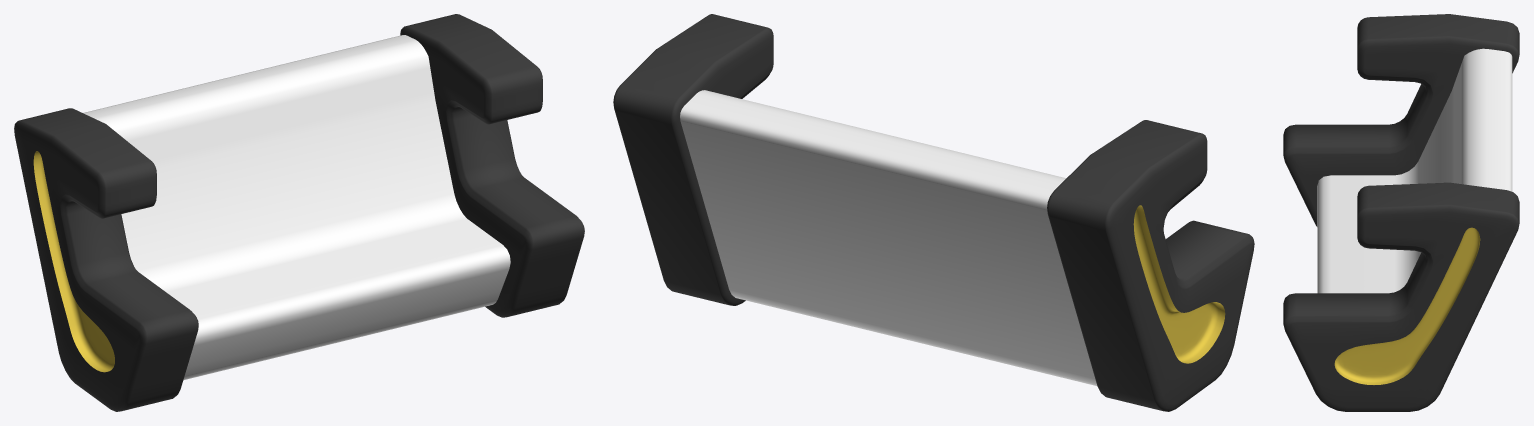
File: sofa.glb
The picture shows the model from 3 angles, left to right: view 1: azimuth 30°, elevation 25°; view 2: azimuth 150°, elevation 25°; view 3: azimuth 270°, elevation 25°; orthographic projection. The views are drawn at different scales.
Parts seen in each view (by area): view 1: sofa, sofa.001; view 2: sofa, sofa.001; view 3: sofa.001, sofa.
Part boxes in pixels (box(x1,y1,x2,y2)): sofa: box(83, 35, 510, 380); sofa.001: box(14, 14, 584, 411); sofa: box(680, 90, 1097, 385); sofa.001: box(613, 14, 1254, 411); sofa.001: box(1283, 14, 1519, 411); sofa: box(1317, 48, 1512, 293).
Size of the model in its own units: 6.51 by 3.25 by 3.35.
